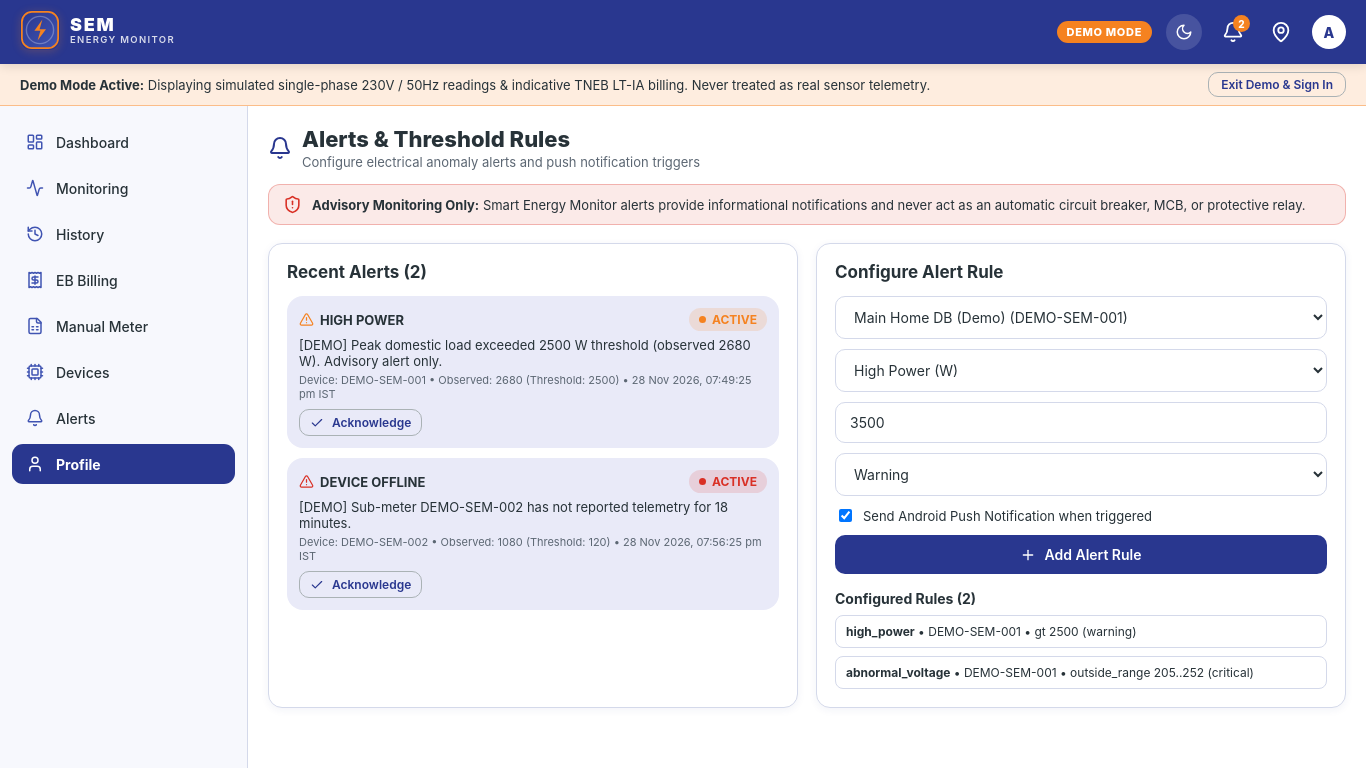
Phase 8 Alerts, Theme Switching & Profile › renders alerts, electrical safety notice, acknowledges alert, and adds rule
Expected: the text "Advisory Monitoring Only:" is shown, [312,196,479,212]
Step 1. Click the button "Acknowledge" below "28 Nov 2026, 07:49:25 pm" → (361, 423), box [299,409,422,436]
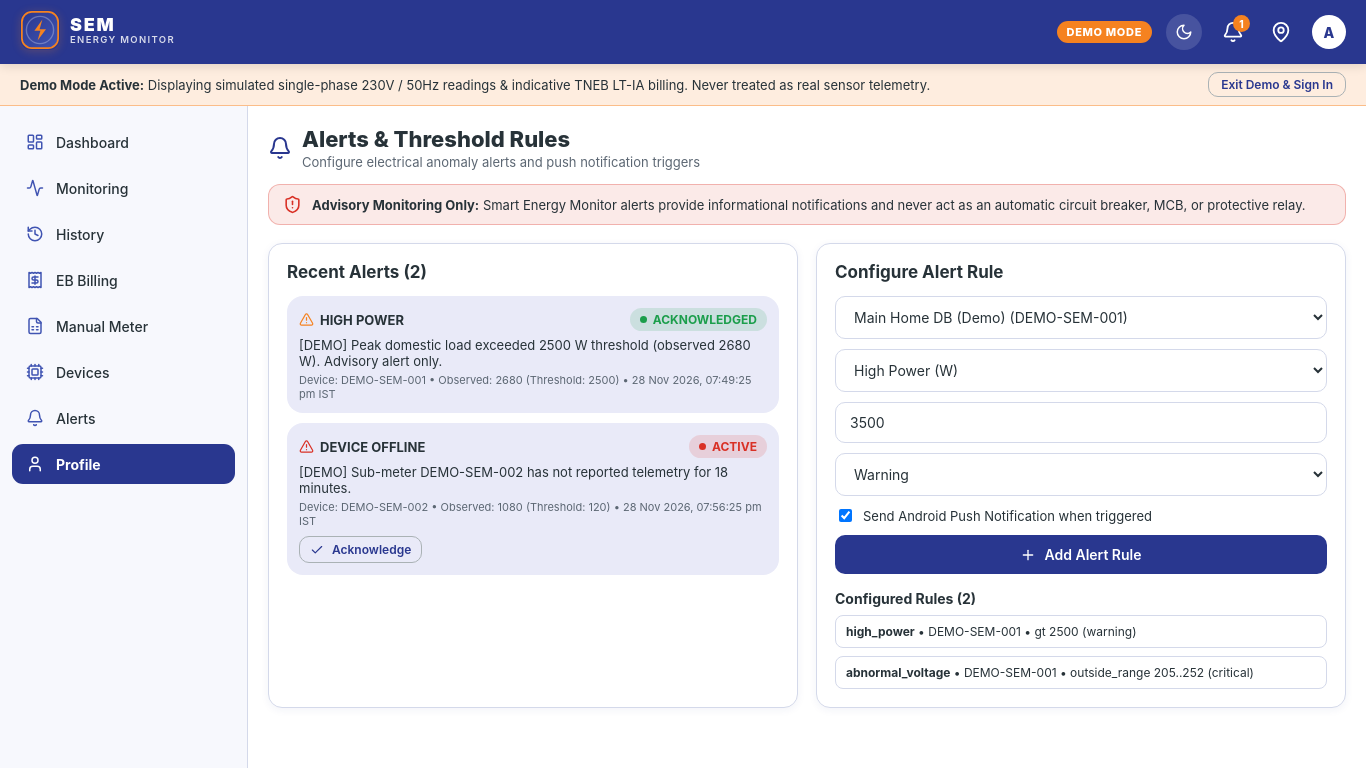
Expected: the text "ACKNOWLEDGED" is shown, [630,308,767,331]
Step 2. Click the button "Add Alert Rule" → (1081, 555), box [835,535,1327,574]
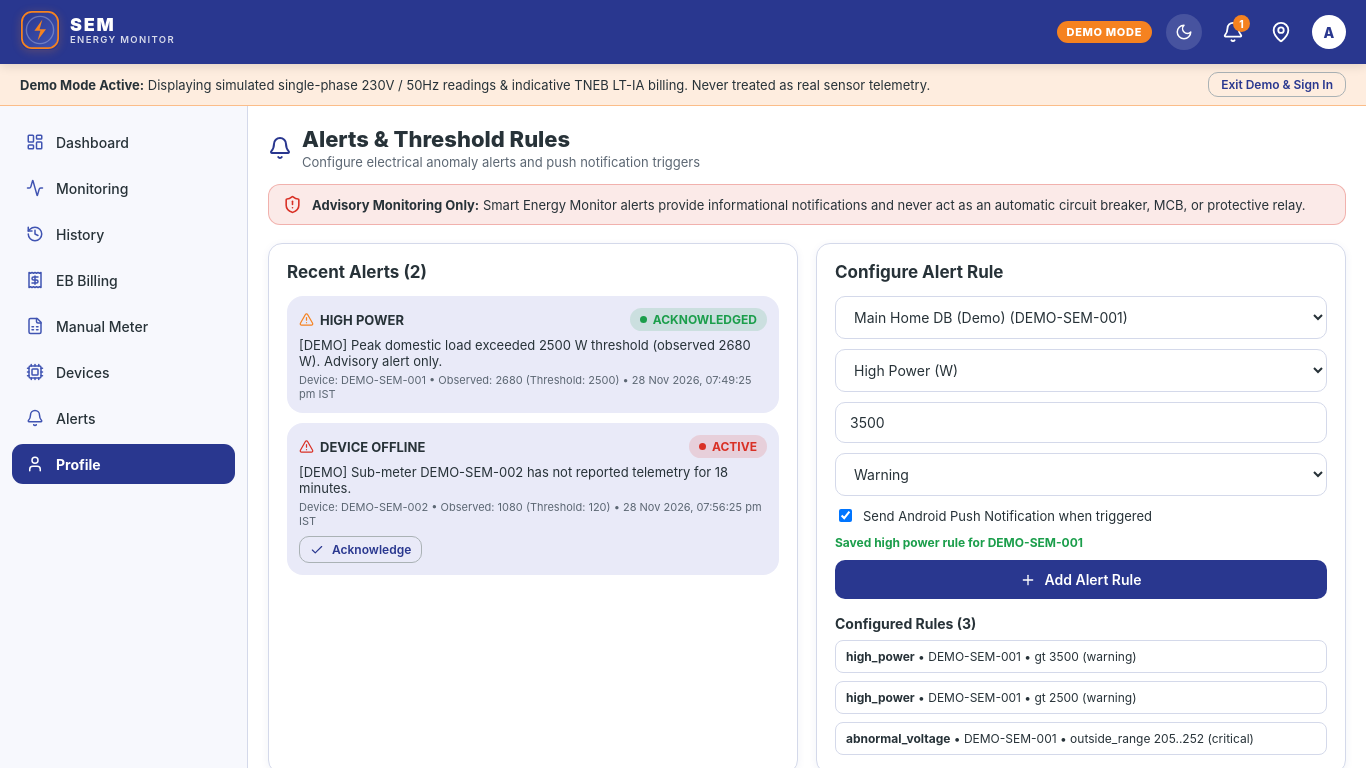
Expected: the text "Saved high power rule for DEMO-SEM-001" is shown, [835,535,1083,550]
